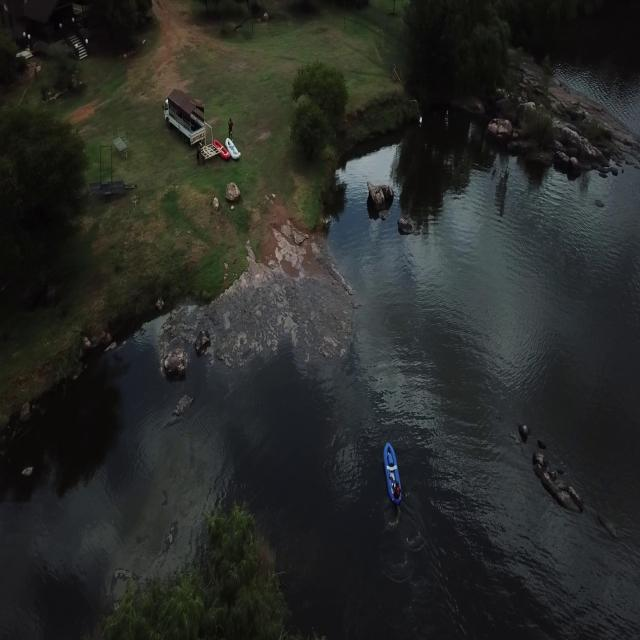kayak: (380, 442, 405, 507)
